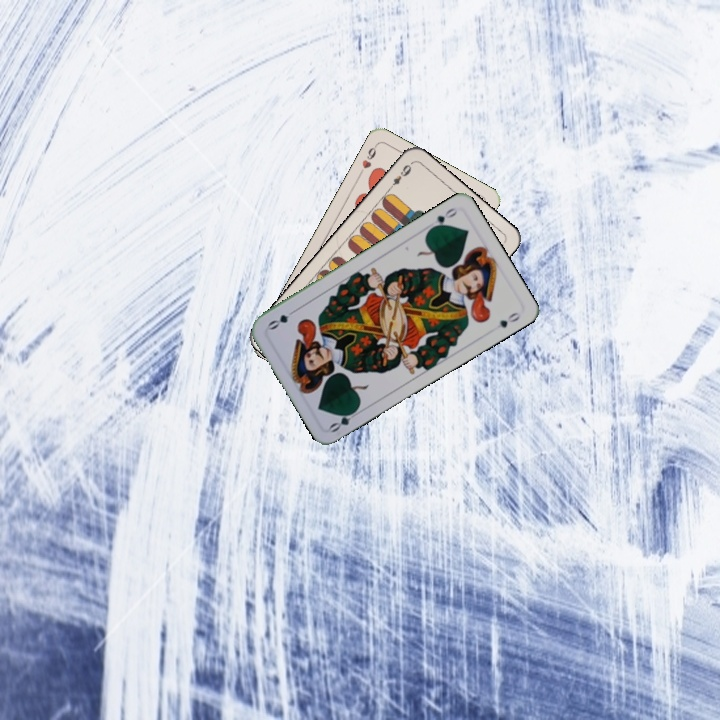E9: (384, 159, 415, 193)
GO: (325, 404, 363, 435), (425, 203, 460, 233)
H9: (355, 141, 380, 178)
